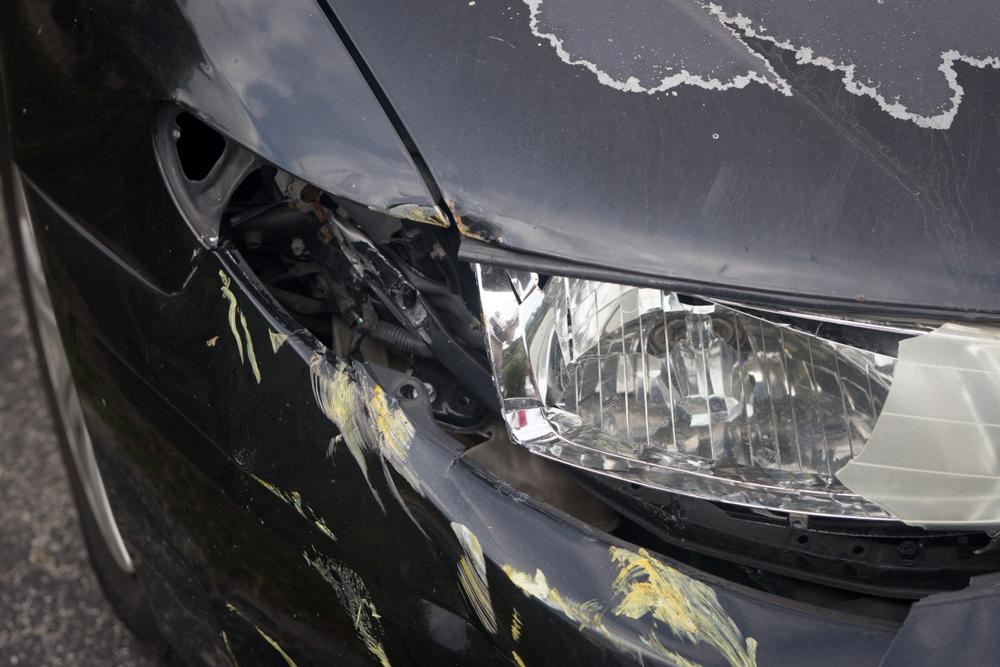lamp broken: (472, 260, 1000, 533)
scratch: (210, 274, 769, 667)
